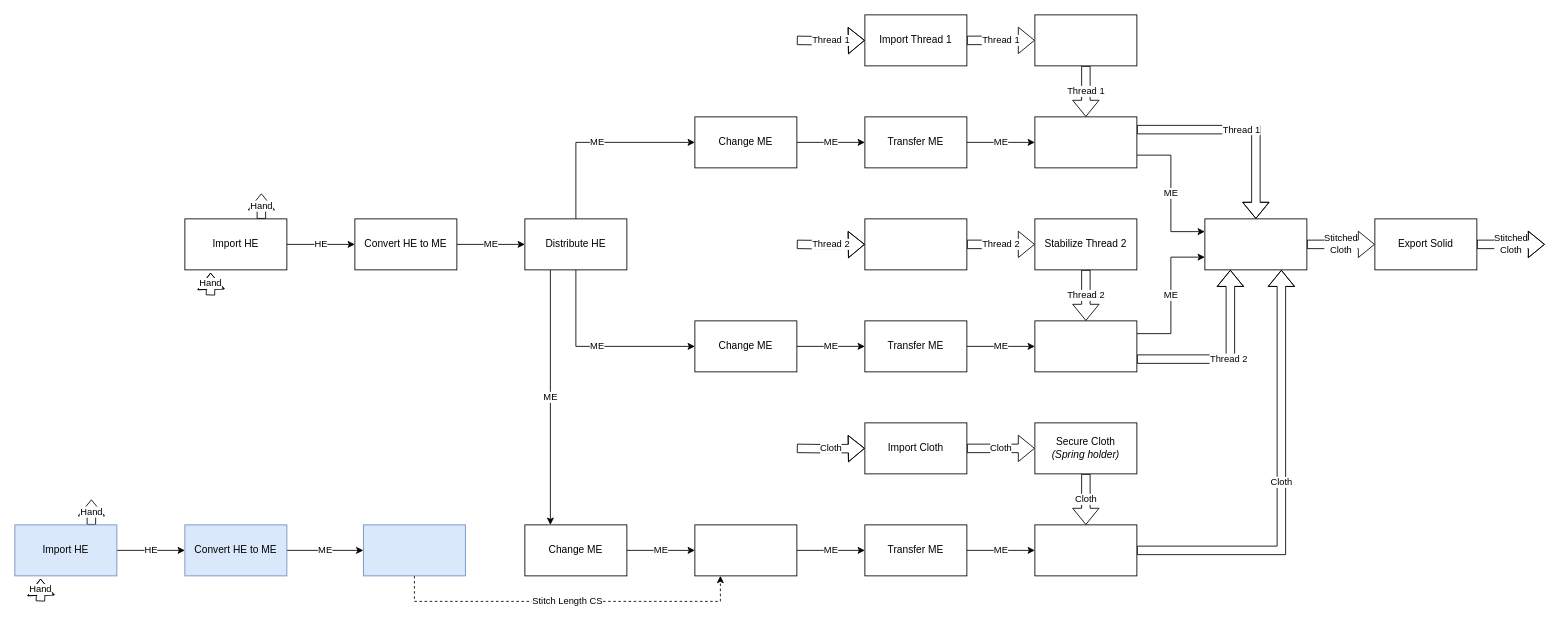
Some shapes in this 1560 by 623 pixel diagram are drawn without their labels. Each missing label, with the centre of its shape:
Convert ME to CS: (414,550)
Couple Solids: (1255,244)
Guide Cloth: (1085,550)
Guide Thread 1: (1085,142)
Guide Thread 2: (1085,346)
Import Thread 2: (915,244)
Regulate ME (Set-screw in ratchet spring adjusts ratchet rotation within cycle): (745,550)
Stabilize Thread 1 (friction nut & spring): (1085,40)
